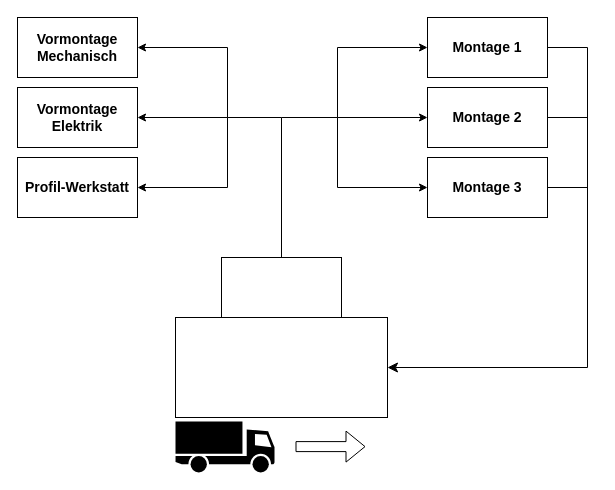
Image size: 615x490. Some labels were removed from this diagram. Here are the shapes that lost their labels. From the top down, the centre of each, then its label:
the point at 281,287: Kommisionierung
the point at 281,367: Logistik / Lager / Versand
